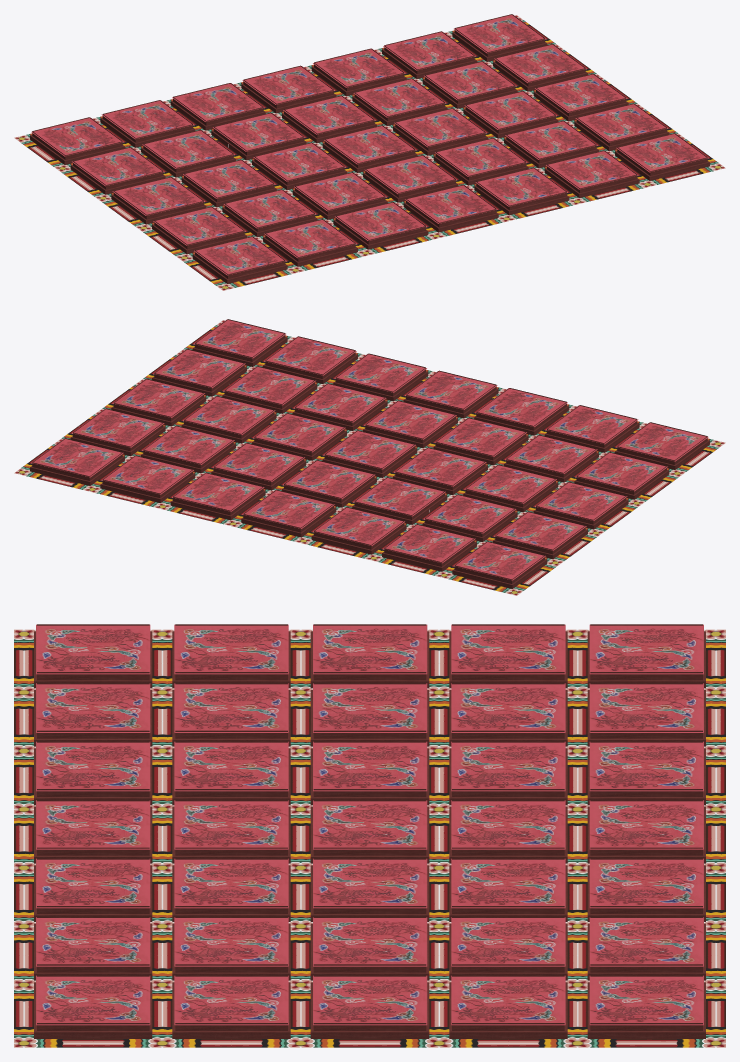
The model's file is SM_Ceiling07B.fbx.
The picture shows the model from 3 angles, top to bottom: view 1: azimuth 30°, elevation 25°; view 2: azimuth 150°, elevation 25°; view 3: azimuth 270°, elevation 25°; orthographic projection. The views are drawn at different scales.
Visible parts, largest first — view 1: SM_Ceiling07B; view 2: SM_Ceiling07B; view 3: SM_Ceiling07B.
Boxes of the visible parts, x1,y1,x2,y2 form: SM_Ceiling07B: (14, 14, 725, 290); SM_Ceiling07B: (14, 319, 725, 595); SM_Ceiling07B: (14, 624, 725, 1047).
Bounding box in the file's own units: 279 × 201 × 4.66.
1 material, 1 textured.
